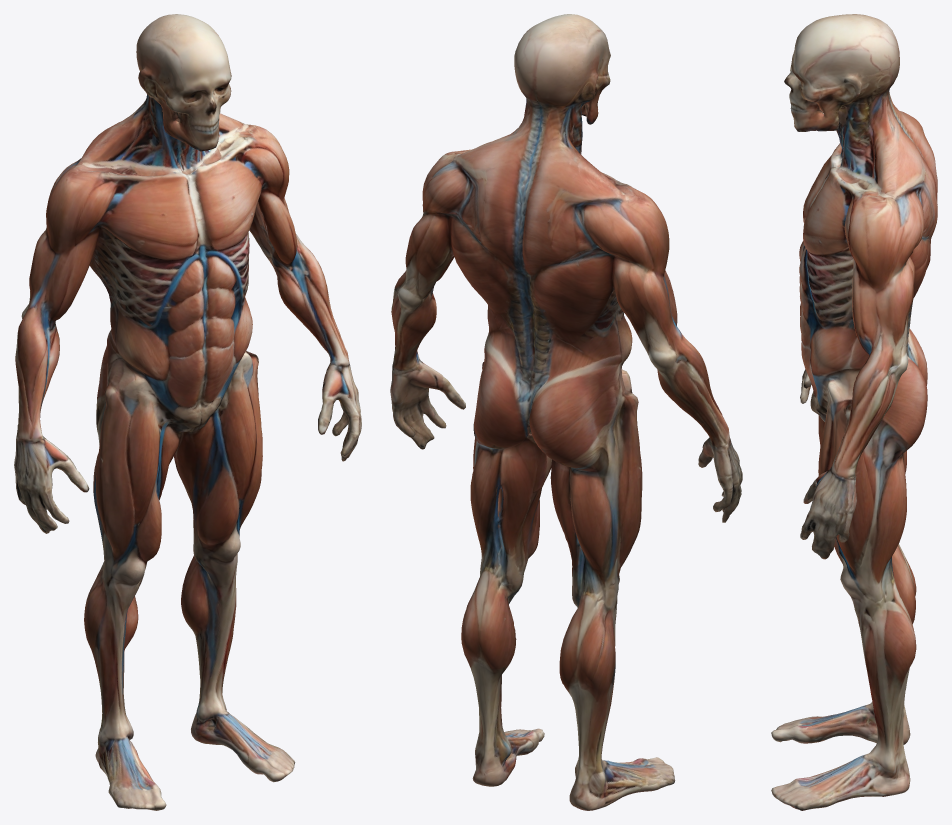
The model's file is humananatomy.glb.
3 renders of one model, left to right at view 1: azimuth 30°, elevation 25°; view 2: azimuth 150°, elevation 25°; view 3: azimuth 270°, elevation 25°, orthographic.
Parts seen in each view (by area): view 1: Object_4; view 2: Object_4; view 3: Object_4.
Part boxes in pixels (bbox=[...]): Object_4: bbox=[14, 14, 361, 810]; Object_4: bbox=[390, 14, 742, 810]; Object_4: bbox=[771, 14, 937, 810].
Size of the model in its own units: 0.9475 by 2 by 0.402.
Materials: 1 (1 with a texture image).
